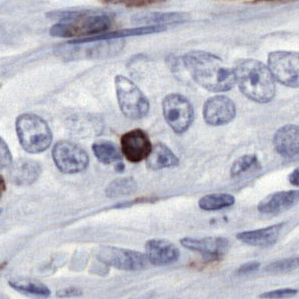Lymphocyte: (120, 128, 153, 162)
